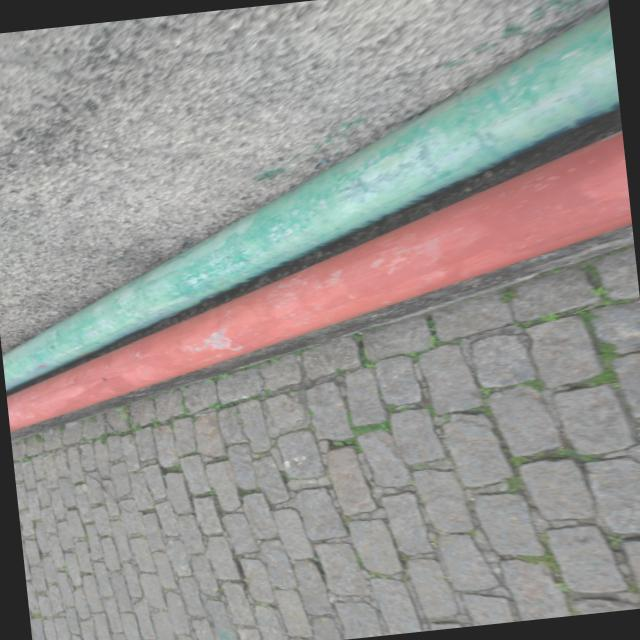gas: (2, 3, 619, 388), (6, 126, 631, 428)
